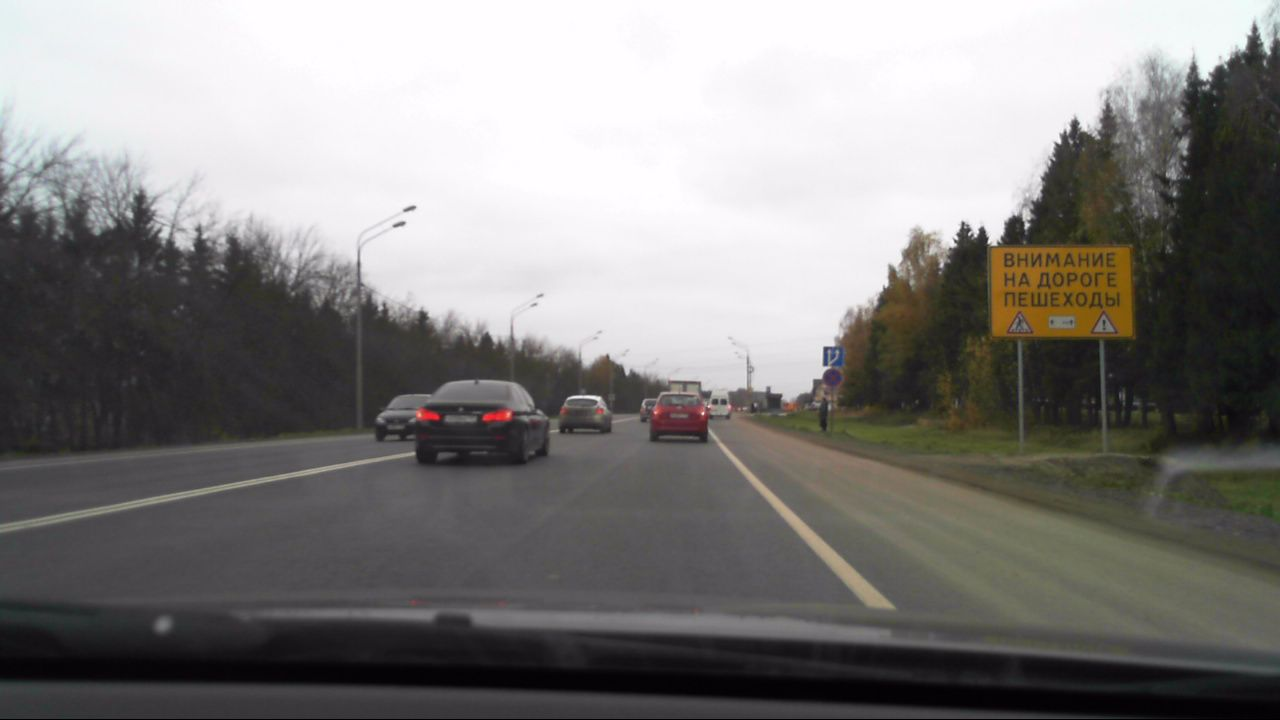No Parking: (823, 366, 843, 385)
